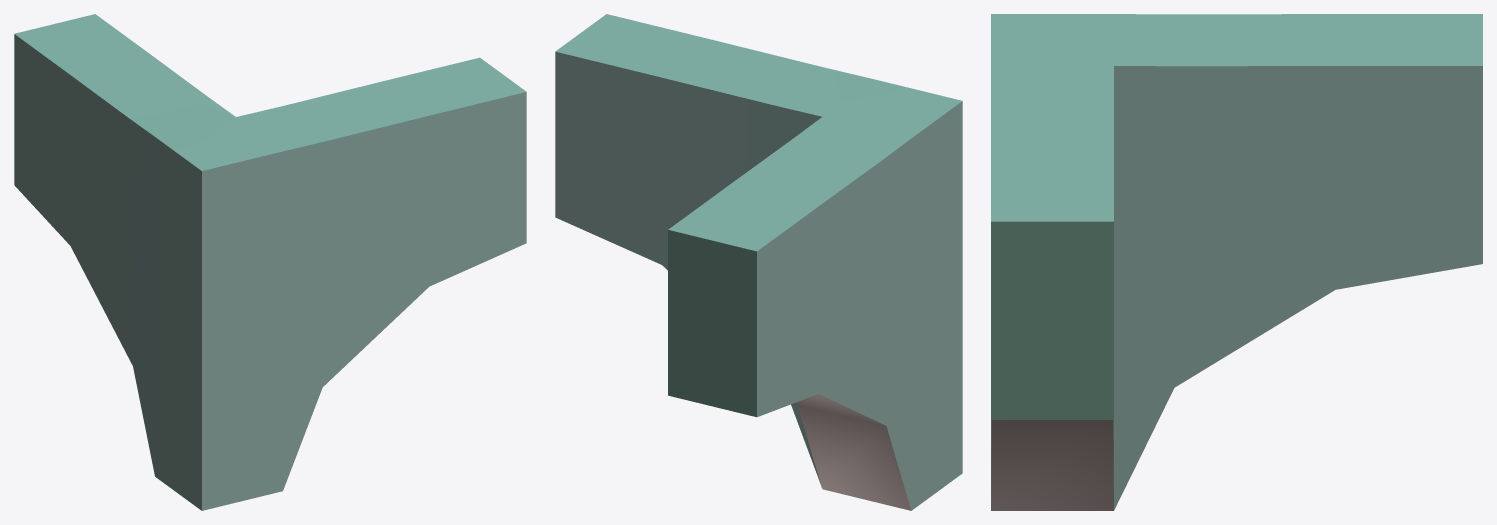
The model's file is SM_ArcheAngle2x1.FBX.
The picture shows the model from 3 angles, left to right: view 1: azimuth 30°, elevation 25°; view 2: azimuth 150°, elevation 25°; view 3: azimuth 270°, elevation 25°; orthographic projection. The views are drawn at different scales.
Parts seen in each view (by area): view 1: SM_ArcheAngle2x1; view 2: SM_ArcheAngle2x1; view 3: SM_ArcheAngle2x1.
Part boxes in pixels (box(x1,y1,x2,y2)): SM_ArcheAngle2x1: box(14, 14, 526, 510); SM_ArcheAngle2x1: box(555, 14, 962, 510); SM_ArcheAngle2x1: box(991, 14, 1482, 510).
Size of the model in its own units: 100 by 100 by 100.
